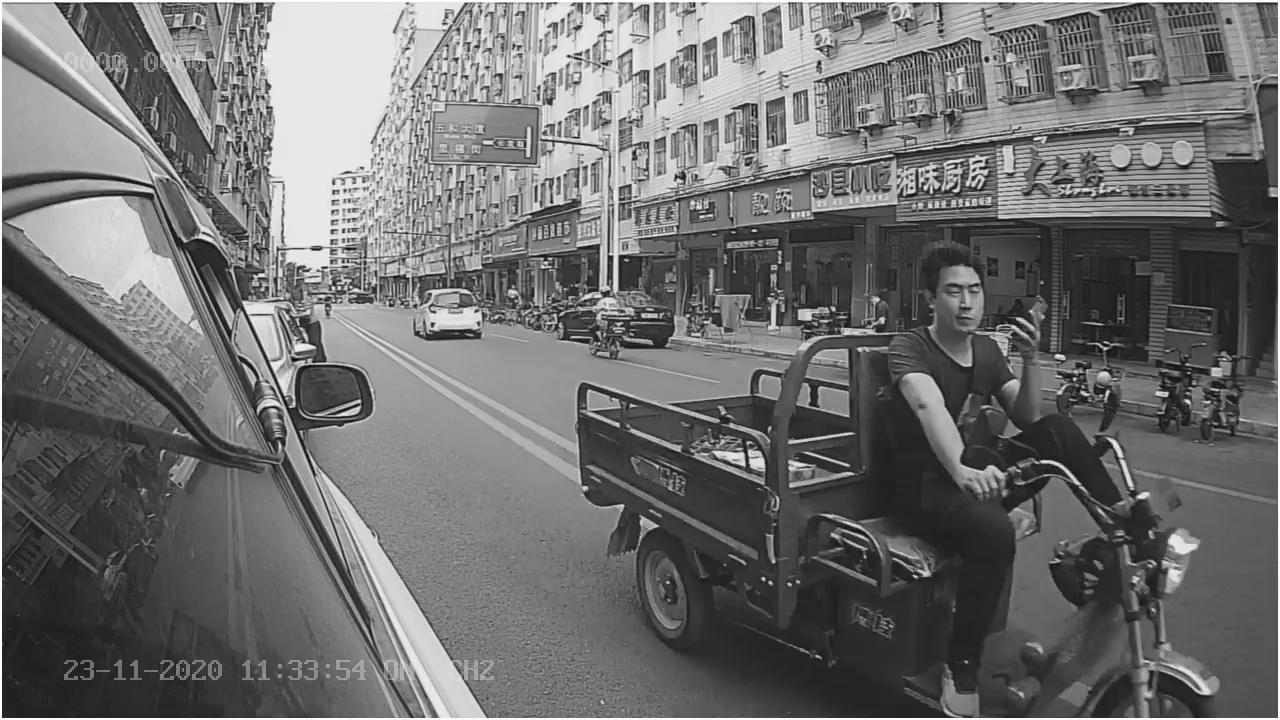person: (890, 243, 1082, 490)
